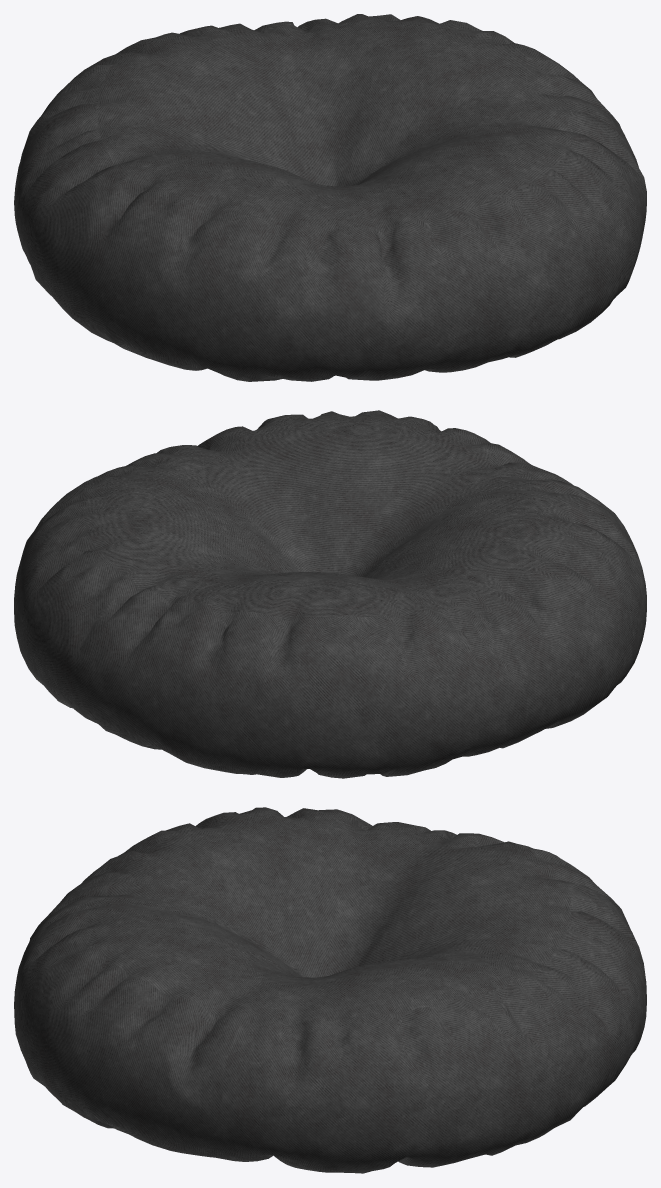
Rendered from beanbagchair.glb.
3 views of the same model, one above another, from view 1: azimuth 30°, elevation 25°; view 2: azimuth 150°, elevation 25°; view 3: azimuth 270°, elevation 25° (orthographic). The views are drawn at different scales.
Parts seen in each view (by area): view 1: Bean; view 2: Bean; view 3: Bean.
Boxes of the visible parts, box(x1,y1,x2,y2) form: Bean: box(14, 14, 646, 381); Bean: box(14, 410, 646, 778); Bean: box(14, 807, 646, 1173).
Bounding box in the file's own units: 2.06 × 0.559 × 2.09.
1 material, 1 textured.
